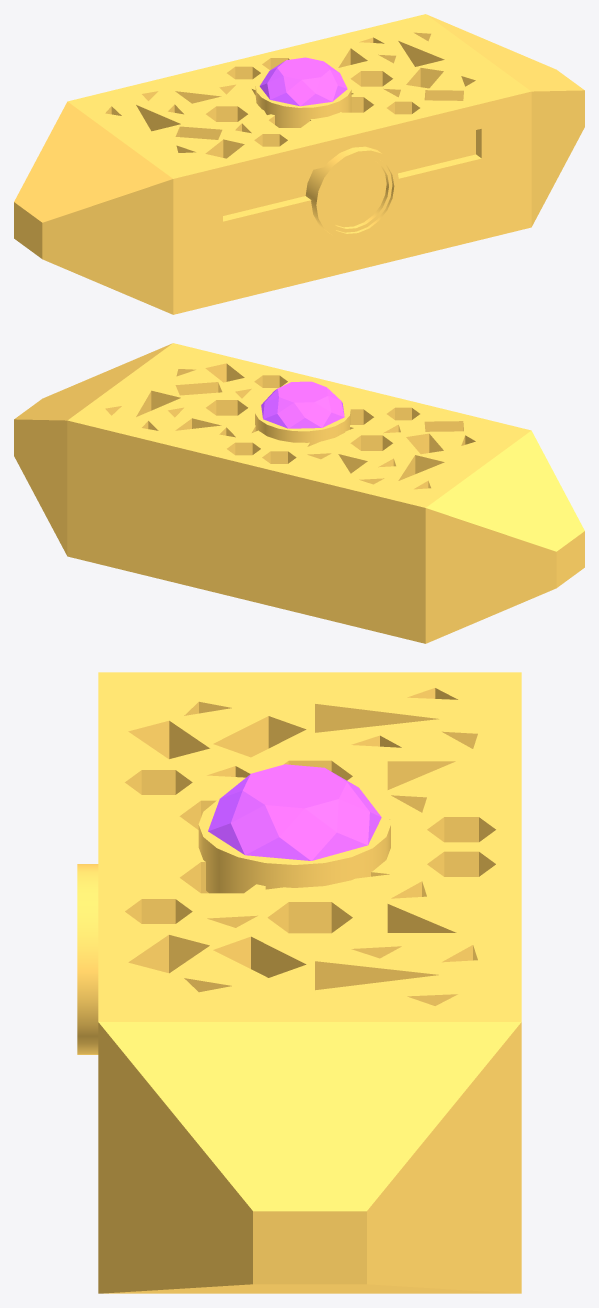
Rendered from Gold_Band.glb.
3 views of the same model, one above another, from view 1: azimuth 30°, elevation 25°; view 2: azimuth 150°, elevation 25°; view 3: azimuth 270°, elevation 25° (orthographic). The views are drawn at different scales.
Parts seen in each view (by area): view 1: Gold_Band; view 2: Gold_Band; view 3: Gold_Band.
Boxes of the visible parts, <box> form: Gold_Band: <box>14,14,584,314</box>; Gold_Band: <box>14,343,584,643</box>; Gold_Band: <box>77,672,521,1293</box>.
Bounding box in the file's own units: 0.65 × 0.1906 × 0.2306.
